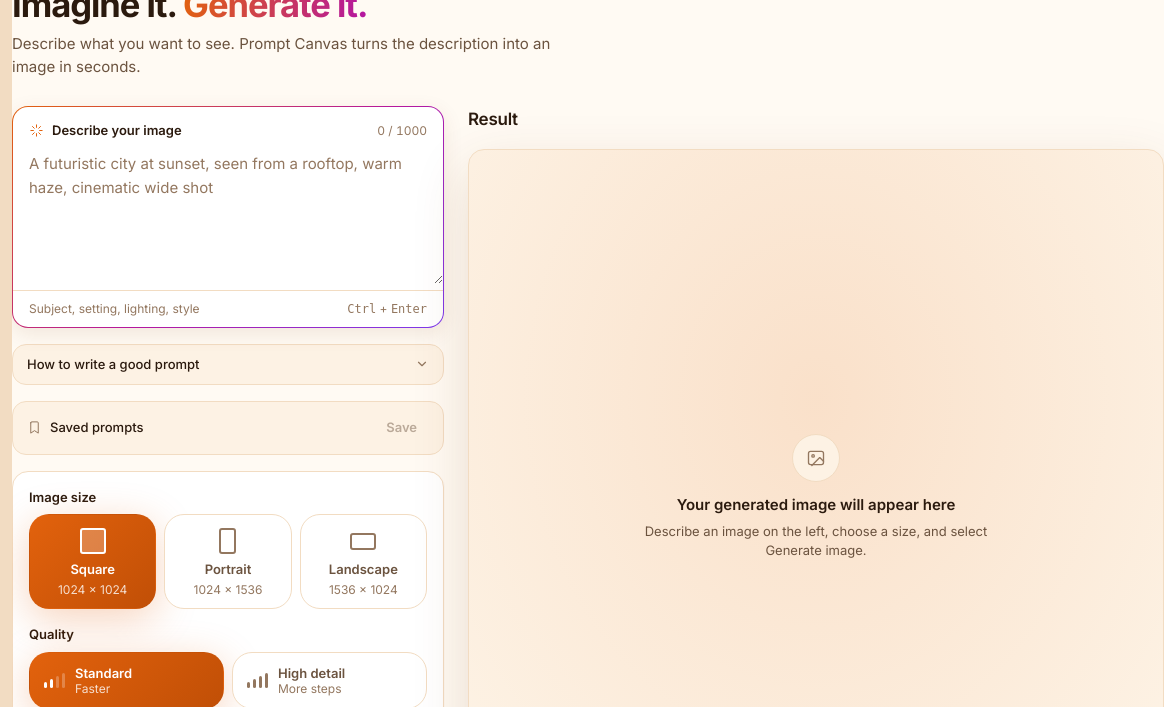
Scenario: prompt validation › enables Generate once the prompt is long enough
In the text box labelled "Describe your image": (228, 212) [13,140,443,284], type "a fox"
(page scrolled)
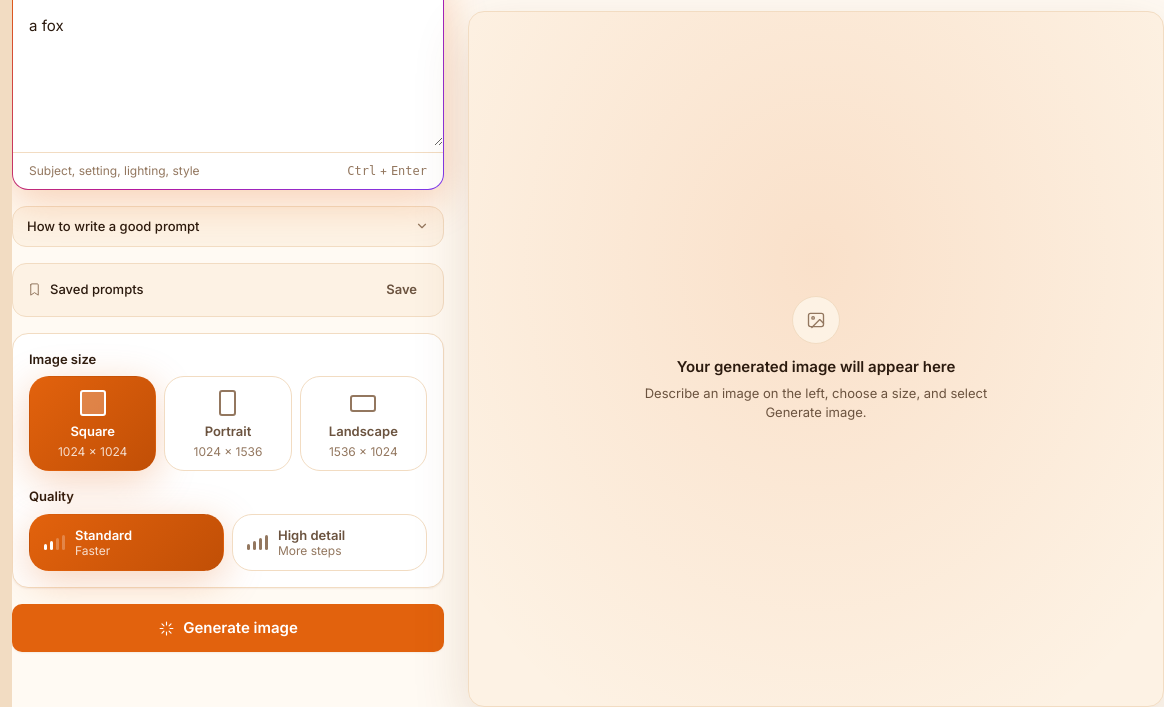
Expected: the button "Generate image" is enabled, [12,604,444,652]
